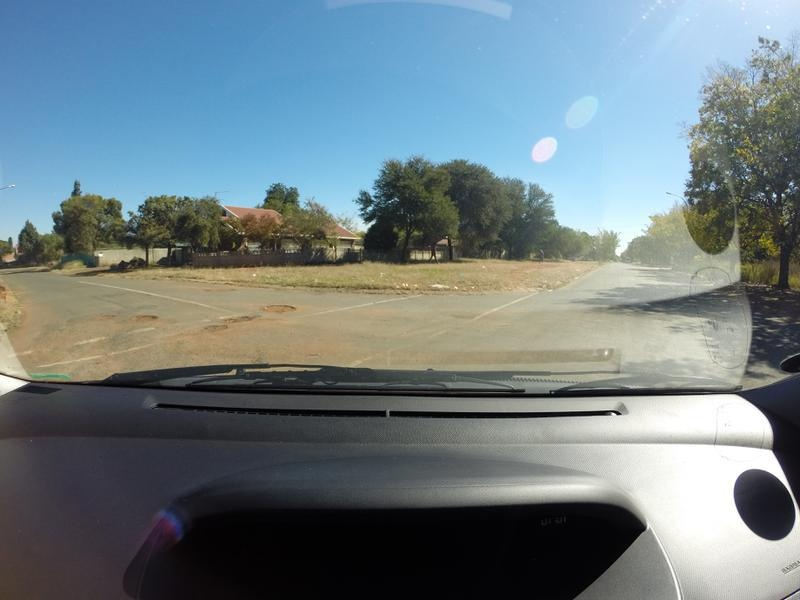pothole: (124, 312, 160, 326), (262, 300, 298, 313), (224, 310, 251, 327), (89, 310, 114, 327), (202, 321, 225, 337)
